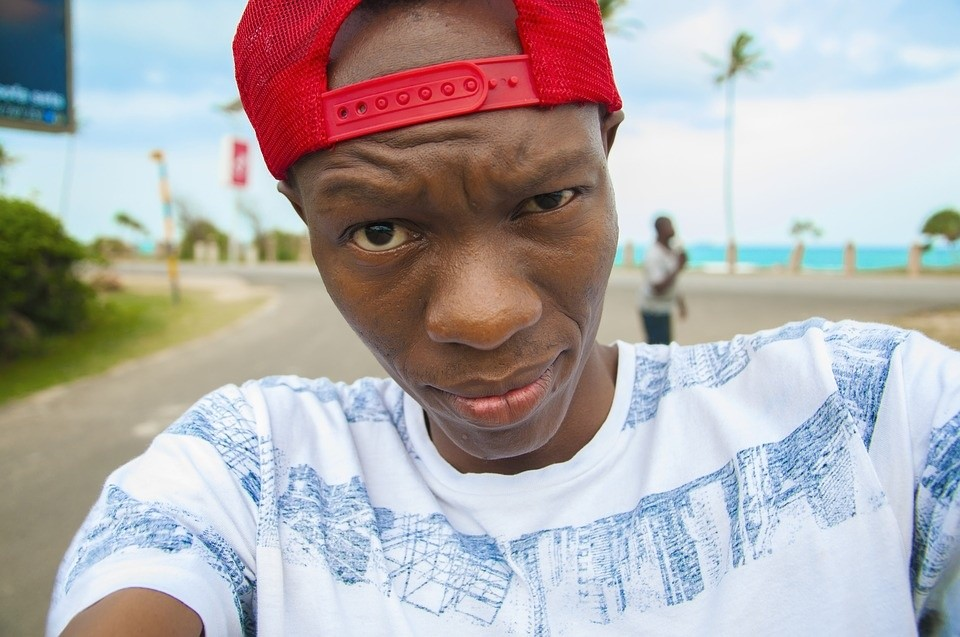face_no_mask: (285, 4, 627, 468)
